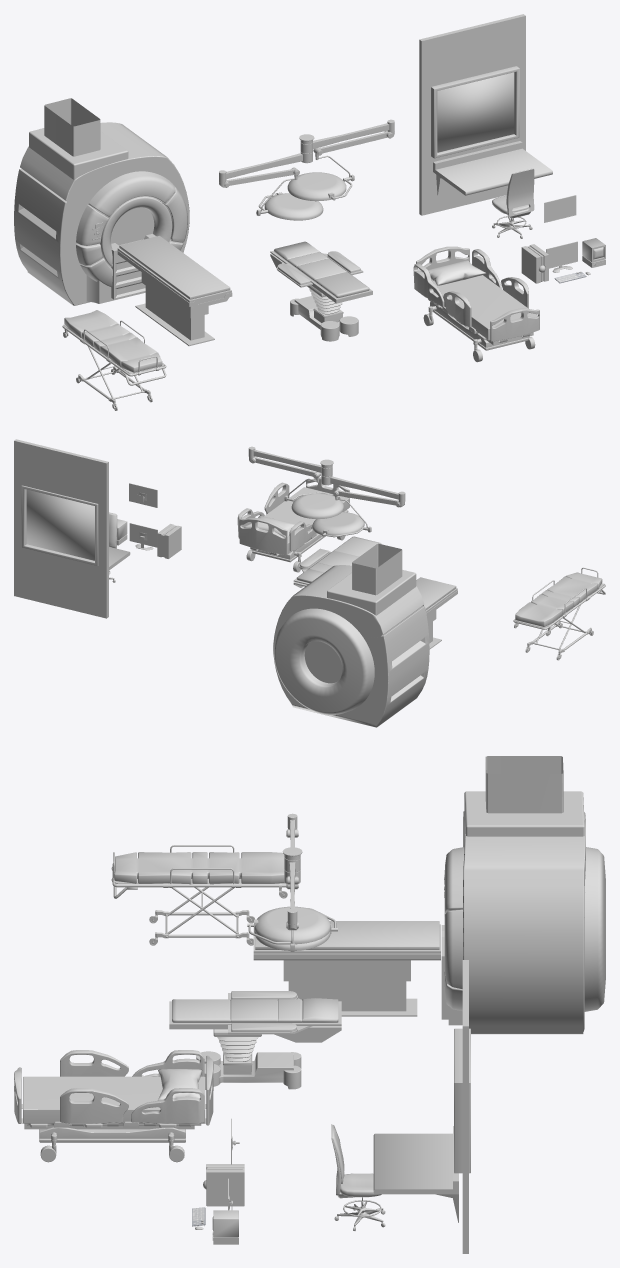
Rendered from Equipment_MD_01.fbx.
3 renders of one model, top to bottom at view 1: azimuth 30°, elevation 25°; view 2: azimuth 150°, elevation 25°; view 3: azimuth 270°, elevation 25°, orthographic. The views are drawn at different scales.
Parts seen in each view (by area): view 1: MRI_MD_01, Int_MD_01_Wall_06, MRI_Tube, Int_Glass, TableWall_MD_01, MIR_Bed, Mat, MedicalBed, OperatingTable_Cushion, MRI_BedBase, MRI_TransferBed, Int_Window_01_01 (+20 smaller); view 2: MRI_MD_01, Int_MD_01_Wall_06, MRI_Tube, Int_Glass, Mat, GateHead, OperatingTable_Cushion, Int_Window_01_01, Lamp, Lamp.001, MedicalBed, MIR_Bed (+9 smaller); view 3: MRI_MD_01, MRI_Tube, Mat, TableWall_MD_01, MedicalBed, MIR_BedLift, OperatingTable_Cushion, MRI_BedBase, MIR_Bed, MedicalBed_MD_01, Lamp, Int_MD_01_Wall_06 (+18 smaller).
Boxes of the visible parts, x1=… form: MRI_MD_01: x1=14, y1=98, x2=189, y2=305; Int_MD_01_Wall_06: x1=419, y1=14, x2=525, y2=215; MRI_Tube: x1=76, y1=171, x2=187, y2=286; Int_Glass: x1=437, y1=72, x2=514, y2=152; TableWall_MD_01: x1=433, y1=141, x2=552, y2=195; MIR_Bed: x1=119, y1=235, x2=230, y2=299; Mat: x1=64, y1=310, x2=162, y2=372; MedicalBed: x1=431, y1=275, x2=537, y2=339; OperatingTable_Cushion: x1=274, y1=241, x2=369, y2=297; MRI_BedBase: x1=135, y1=286, x2=214, y2=346; MRI_TransferBed: x1=86, y1=233, x2=156, y2=303; Int_Window_01_01: x1=431, y1=66, x2=519, y2=158; MRI_MD_01: x1=273, y1=543, x2=429, y2=727; Int_MD_01_Wall_06: x1=14, y1=439, x2=108, y2=618; MRI_Tube: x1=273, y1=608, x2=374, y2=714; Int_Glass: x1=26, y1=489, x2=94, y2=560; Mat: x1=515, y1=572, x2=602, y2=626; GateHead: x1=239, y1=518, x2=287, y2=555; OperatingTable_Cushion: x1=296, y1=536, x2=381, y2=583; Int_Window_01_01: x1=21, y1=485, x2=98, y2=565; Lamp: x1=291, y1=493, x2=343, y2=519; Lamp.001: x1=312, y1=512, x2=364, y2=535; MedicalBed: x1=264, y1=487, x2=349, y2=552; MIR_Bed: x1=416, y1=577, x2=456, y2=610; MRI_MD_01: x1=463, y1=756, x2=585, y2=1034; MRI_Tube: x1=444, y1=847, x2=605, y2=1011; Mat: x1=114, y1=852, x2=284, y2=883; TableWall_MD_01: x1=373, y1=1126, x2=458, y2=1194; MedicalBed: x1=23, y1=1076, x2=205, y2=1123; MIR_BedLift: x1=253, y1=953, x2=440, y2=981; OperatingTable_Cushion: x1=172, y1=998, x2=338, y2=1022; MRI_BedBase: x1=288, y1=981, x2=417, y2=1016; MIR_Bed: x1=255, y1=921, x2=439, y2=949; MedicalBed_MD_01: x1=39, y1=1127, x2=185, y2=1142; Lamp: x1=254, y1=906, x2=330, y2=944; Int_MD_01_Wall_06: x1=462, y1=960, x2=468, y2=1253.
Bounding box in the file's own units: 127376 × 41315 × 94333.
